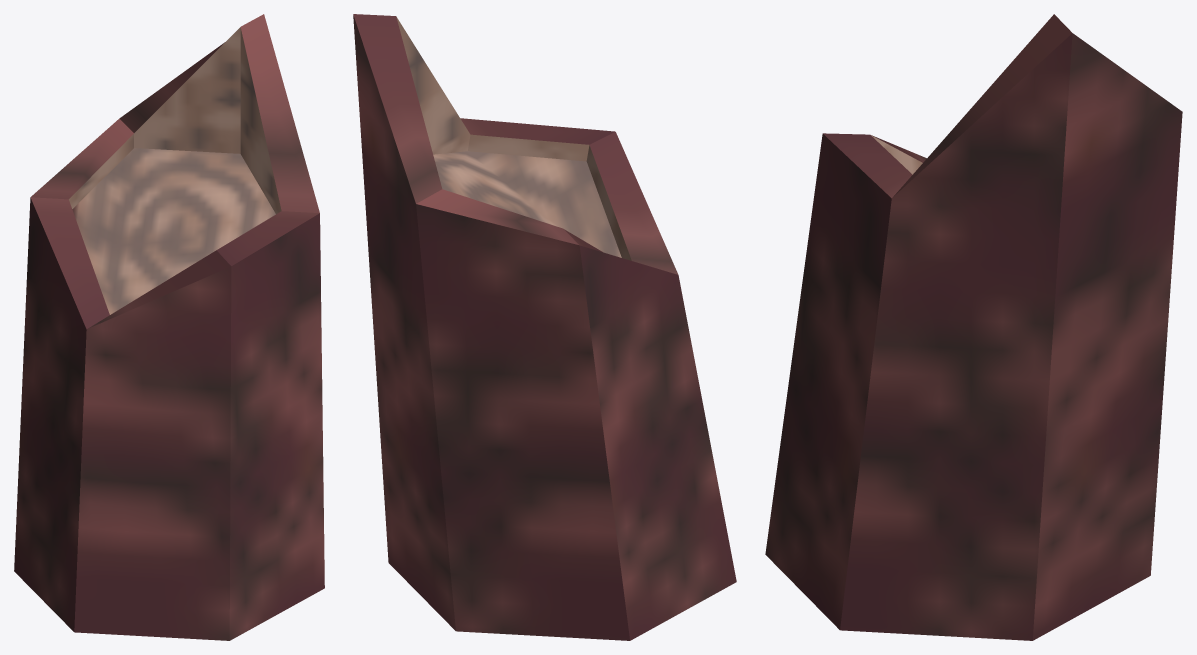
Rendered from trunk_04.glb.
The picture shows the model from 3 angles, left to right: view 1: azimuth 30°, elevation 25°; view 2: azimuth 150°, elevation 25°; view 3: azimuth 270°, elevation 25°; orthographic projection. The views are drawn at different scales.
Parts seen in each view (by area): view 1: trunk_04; view 2: trunk_04; view 3: trunk_04.
Part boxes in pixels (x1=…): trunk_04: x1=14, y1=14, x2=324, y2=640; trunk_04: x1=353, y1=14, x2=736, y2=640; trunk_04: x1=765, y1=14, x2=1182, y2=640.
Size of the model in its own units: 3.72 by 6.65 by 4.07.
Materials: 1 (1 with a texture image).
